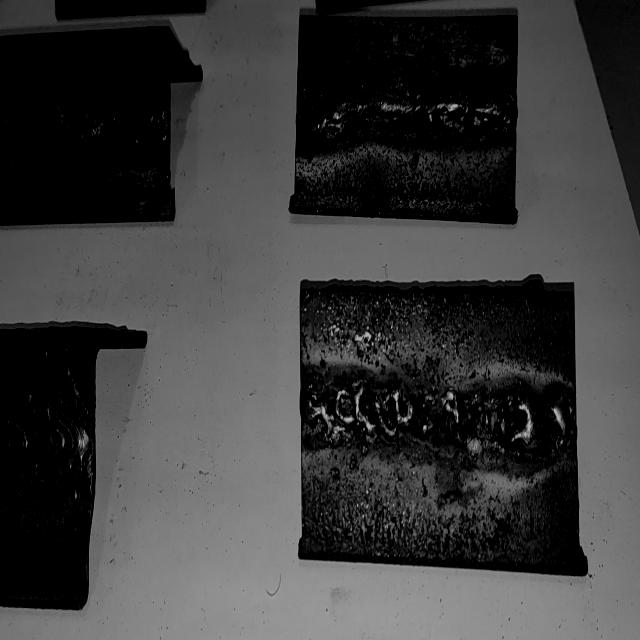Defect: (444, 391, 570, 454), (307, 374, 414, 444)
Good Weld: (300, 89, 514, 138), (2, 104, 166, 148), (0, 423, 90, 470)
